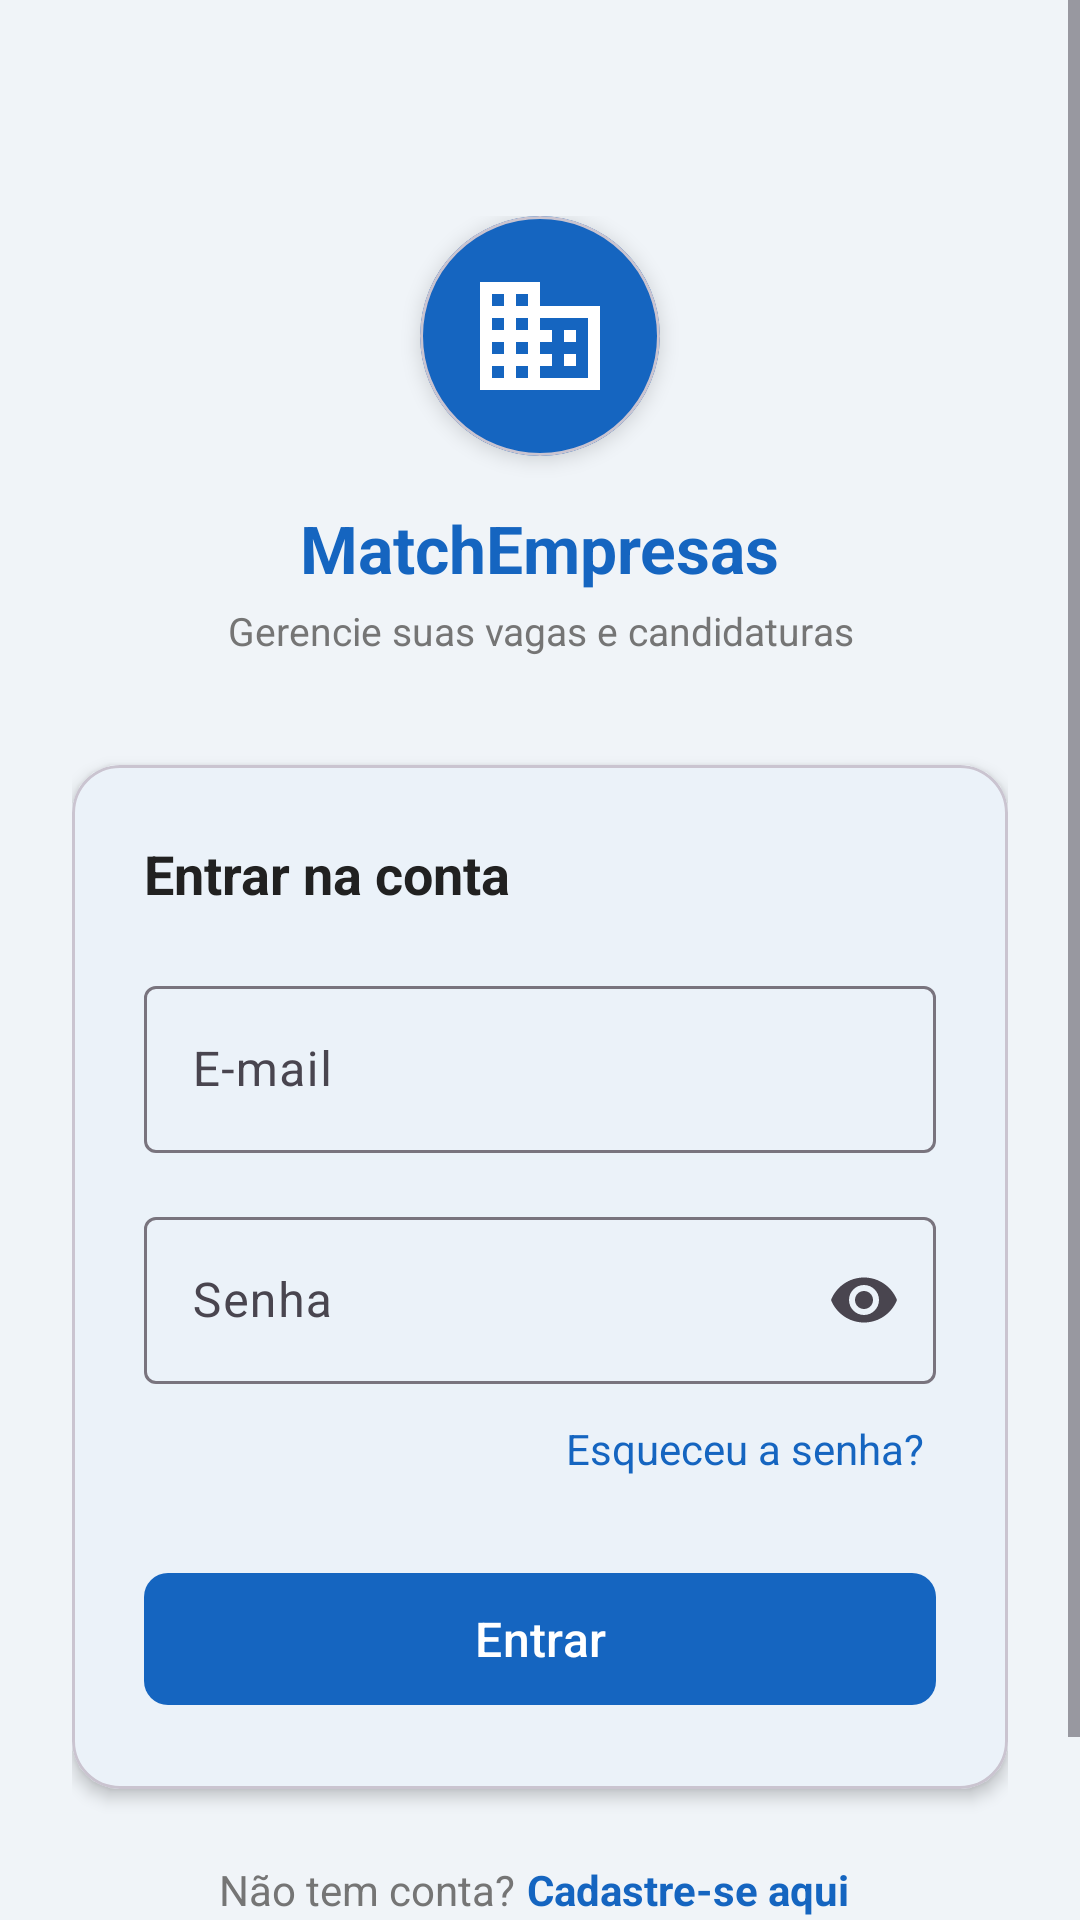

Screen size 1080px×1920px. Icon name, then its box in pixels as (x1, y1, x2, y2):
business: (420, 216, 660, 456)
